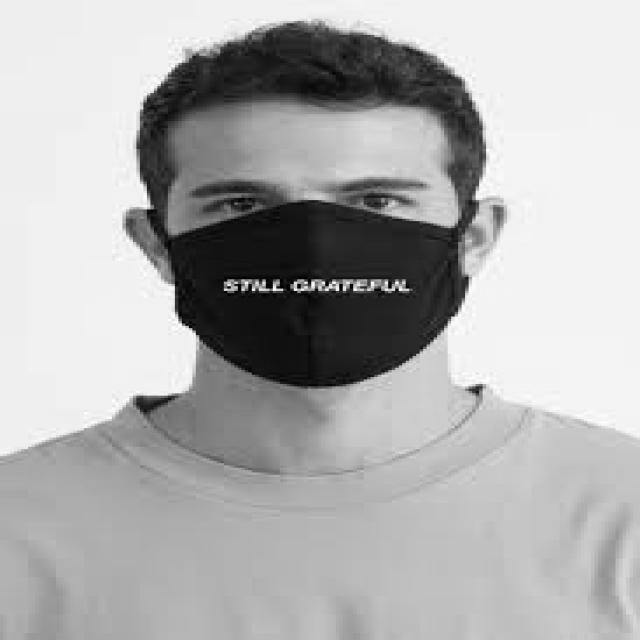fake: (103, 198, 512, 397)
real: (159, 107, 470, 397)
